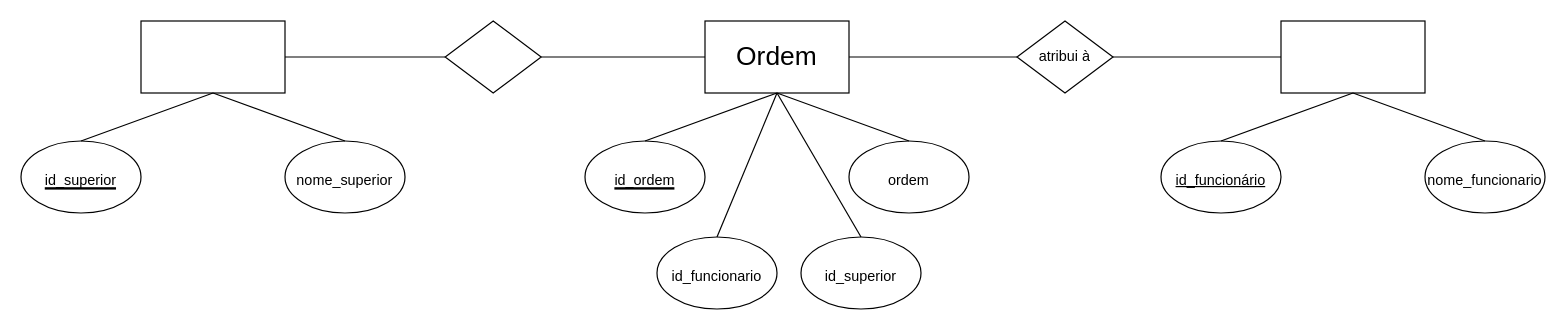
Image size: 1566x330. Some labels were removed from this diagram. Each missing label, with the centre of its shape:
"Funcionário" goes at (x=1352, y=56).
"gera" goes at (x=492, y=56).
"Superior" goes at (x=212, y=56).
